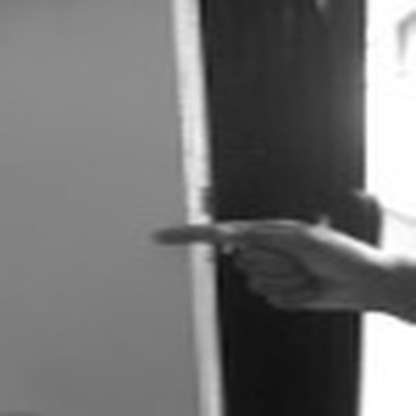g: (140, 204, 381, 322)
